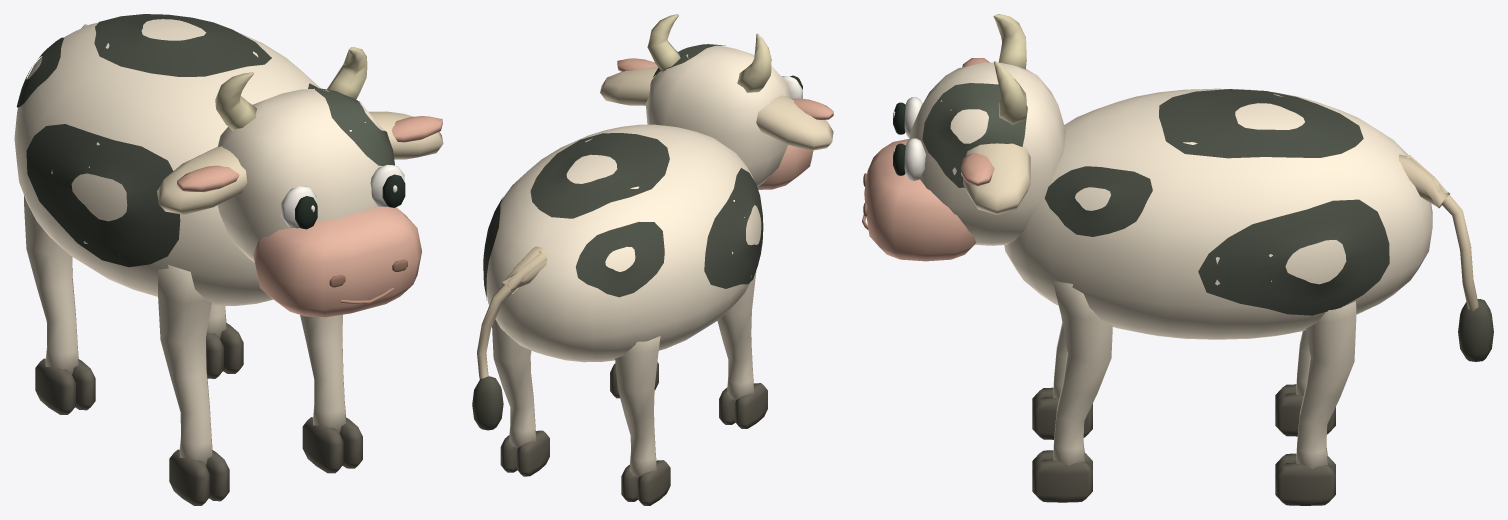
The model's file is cow-lod.glb.
The picture shows the model from 3 angles, left to right: view 1: azimuth 30°, elevation 25°; view 2: azimuth 150°, elevation 25°; view 3: azimuth 270°, elevation 25°; orthographic projection. The views are drawn at different scales.
Visible parts, largest first — view 1: sculpted-shoulders-belly, head-and-forehead, soft-pink-muzzle, flush-coat-marking-1, curved-leg-2, flush-coat-marking-2, curved-leg-0, curved-leg-3, ear--1, forehead-coat-marking, cloven-hoof-3-toe--1, cloven-hoof-0-toe--1 (+17 smaller); view 2: sculpted-shoulders-belly, head-and-forehead, flush-coat-marking-2, flush-coat-marking-1, flush-coat-marking-4, curved-leg-0, curved-leg-1, curved-leg-2, ear--1, ear-1, curving-tail, tail-tuft (+14 smaller); view 3: sculpted-shoulders-belly, flush-coat-marking-0, head-and-forehead, flush-coat-marking-2, soft-pink-muzzle, curved-leg-3, curved-leg-1, flush-coat-marking-3, forehead-coat-marking, ear-1, cloven-hoof-3-toe-1, cloven-hoof-1-toe-1 (+9 smaller).
Part boxes in pixels (x1,y1,x2,y2): sculpted-shoulders-belly: [14, 19, 320, 305]; head-and-forehead: [217, 88, 384, 262]; soft-pink-muzzle: [253, 206, 421, 317]; flush-coat-marking-1: [26, 124, 180, 267]; curved-leg-2: [158, 265, 212, 464]; flush-coat-marking-2: [94, 14, 271, 76]; curved-leg-0: [24, 195, 78, 373]; curved-leg-3: [300, 314, 345, 432]; ear--1: [157, 146, 247, 214]; forehead-coat-marking: [314, 87, 394, 165]; cloven-hoof-3-toe--1: [302, 417, 343, 473]; cloven-hoof-0-toe--1: [35, 358, 75, 414]; sculpted-shoulders-belly: [486, 124, 761, 362]; head-and-forehead: [645, 45, 791, 186]; flush-coat-marking-2: [530, 133, 669, 218]; flush-coat-marking-1: [704, 168, 763, 288]; flush-coat-marking-4: [576, 222, 664, 297]; curved-leg-0: [615, 336, 660, 477]; curved-leg-1: [492, 319, 535, 447]; curved-leg-2: [717, 271, 756, 399]; ear--1: [756, 95, 833, 150]; ear-1: [600, 66, 658, 105]; curving-tail: [477, 251, 547, 378]; tail-tuft: [472, 376, 503, 430]; sculpted-shoulders-belly: [1004, 88, 1432, 339]; flush-coat-marking-0: [1198, 199, 1389, 315]; head-and-forehead: [909, 62, 1065, 245]; flush-coat-marking-2: [1159, 89, 1363, 158]; soft-pink-muzzle: [864, 139, 976, 261]; curved-leg-3: [1053, 281, 1112, 466]; curved-leg-1: [1296, 301, 1356, 469]; flush-coat-marking-3: [1044, 166, 1152, 236]; forehead-coat-marking: [922, 83, 1027, 187]; ear-1: [963, 143, 1030, 214]; cloven-hoof-3-toe-1: [1032, 459, 1092, 502]; cloven-hoof-1-toe-1: [1275, 462, 1335, 505].
Size of the model in its own units: 1.19 by 1.79 by 2.39.
